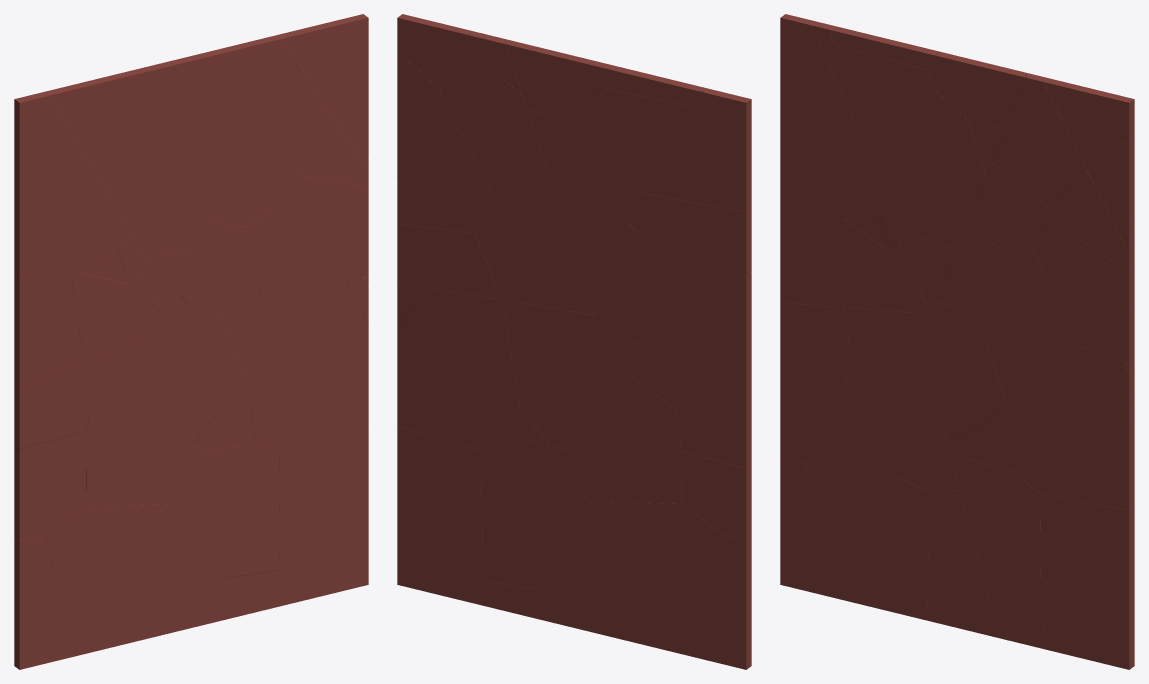
File: wall_03Cx.fbx
The picture shows the model from 3 angles, left to right: view 1: azimuth 30°, elevation 25°; view 2: azimuth 150°, elevation 25°; view 3: azimuth 330°, elevation 25°; orthographic projection.
Parts seen in each view (by area): view 1: wall03_C_cell_cell.002, wall03_C_cell.005_cell.001, wall03_C_cell_cell, wall03_C_cell.002_cell.005, wall03_C_cell.005_cell.002, wall03_C_cell_cell.006, wall03_C_cell.006_cell.002, wall03_C_cell_cell.004, wall03_C_cell.005_cell.003, wall03_C_cell.006_cell.004, wall03_C_cell.005_cell.005, wall03_C_cell.006_cell.007 (+26 smaller); view 2: wall03_C_cell_cell.002, wall03_C_cell.005_cell.001, wall03_C_cell_cell, wall03_C_cell.005_cell.002, wall03_C_cell_cell.004, wall03_C_cell_cell.006, wall03_C_cell.002_cell.005, wall03_C_cell.006_cell.004, wall03_C_cell.006_cell.002, wall03_C_cell.005_cell.003, wall03_C_cell.005_cell.004, wall03_C_cell.006_cell.007 (+25 smaller); view 3: wall03_C_cell_cell.002, wall03_C_cell.005_cell.001, wall03_C_cell_cell, wall03_C_cell.005_cell.002, wall03_C_cell.002_cell.005, wall03_C_cell_cell.006, wall03_C_cell_cell.004, wall03_C_cell.006_cell.002, wall03_C_cell.005_cell.003, wall03_C_cell.001_cell, wall03_C_cell.002_cell.008, wall03_C_cell.006_cell.004 (+27 smaller).
Boxes of the visible parts, box(x1,y1,x2,y2) form: wall03_C_cell_cell.002: box(249, 281, 368, 452); wall03_C_cell.005_cell.001: box(45, 504, 169, 655); wall03_C_cell_cell: box(279, 425, 368, 604); wall03_C_cell.002_cell.005: box(107, 100, 225, 257); wall03_C_cell.005_cell.002: box(86, 359, 198, 506); wall03_C_cell_cell.006: box(193, 443, 279, 578); wall03_C_cell.006_cell.002: box(14, 187, 131, 280); wall03_C_cell_cell.004: box(151, 303, 246, 444); wall03_C_cell.005_cell.003: box(165, 488, 238, 633); wall03_C_cell.006_cell.004: box(14, 88, 103, 207); wall03_C_cell.005_cell.005: box(14, 431, 86, 541); wall03_C_cell.006_cell.007: box(14, 272, 83, 387); wall03_C_cell_cell.002: box(397, 287, 520, 451); wall03_C_cell.005_cell.001: box(591, 501, 724, 656); wall03_C_cell_cell: box(397, 426, 482, 603); wall03_C_cell.005_cell.002: box(566, 358, 681, 503); wall03_C_cell_cell.004: box(505, 301, 613, 451); wall03_C_cell_cell.006: box(481, 438, 574, 588); wall03_C_cell.002_cell.005: box(542, 99, 651, 252); wall03_C_cell.006_cell.004: box(640, 91, 751, 211); wall03_C_cell.006_cell.002: box(624, 193, 751, 278); wall03_C_cell.005_cell.003: box(526, 487, 596, 633); wall03_C_cell.005_cell.004: box(675, 361, 751, 468); wall03_C_cell.006_cell.007: box(687, 272, 751, 387); wall03_C_cell_cell.002: box(1009, 330, 1134, 510); wall03_C_cell.005_cell.001: box(806, 454, 930, 620); wall03_C_cell_cell: box(1040, 494, 1134, 669); wall03_C_cell.005_cell.002: box(847, 341, 959, 492); wall03_C_cell.002_cell.005: box(867, 91, 986, 249); wall03_C_cell_cell.006: box(954, 458, 1040, 611); wall03_C_cell_cell.004: box(912, 300, 1007, 443); wall03_C_cell.006_cell.002: box(780, 117, 892, 220); wall03_C_cell.005_cell.003: box(926, 490, 999, 638); wall03_C_cell.001_cell: box(1021, 272, 1134, 363); wall03_C_cell.002_cell.008: box(823, 44, 935, 148); wall03_C_cell.006_cell.004: box(780, 14, 864, 143).
Bounding box in the file's own units: 787 × 1222 × 20.23.
